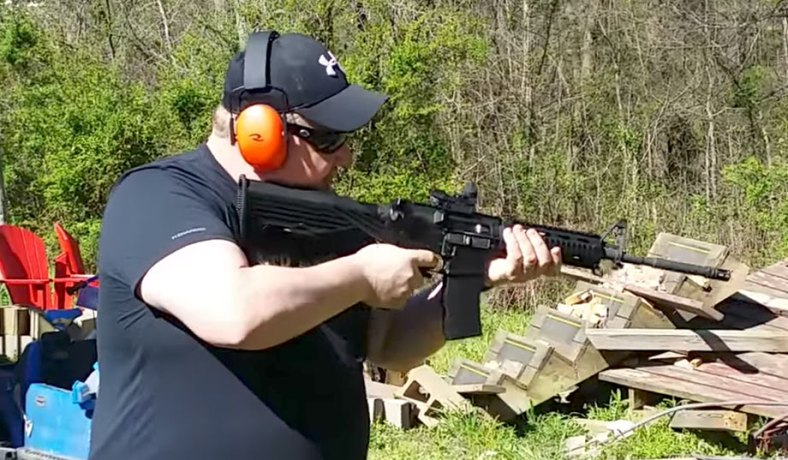Rifle: (230, 168, 736, 344)
